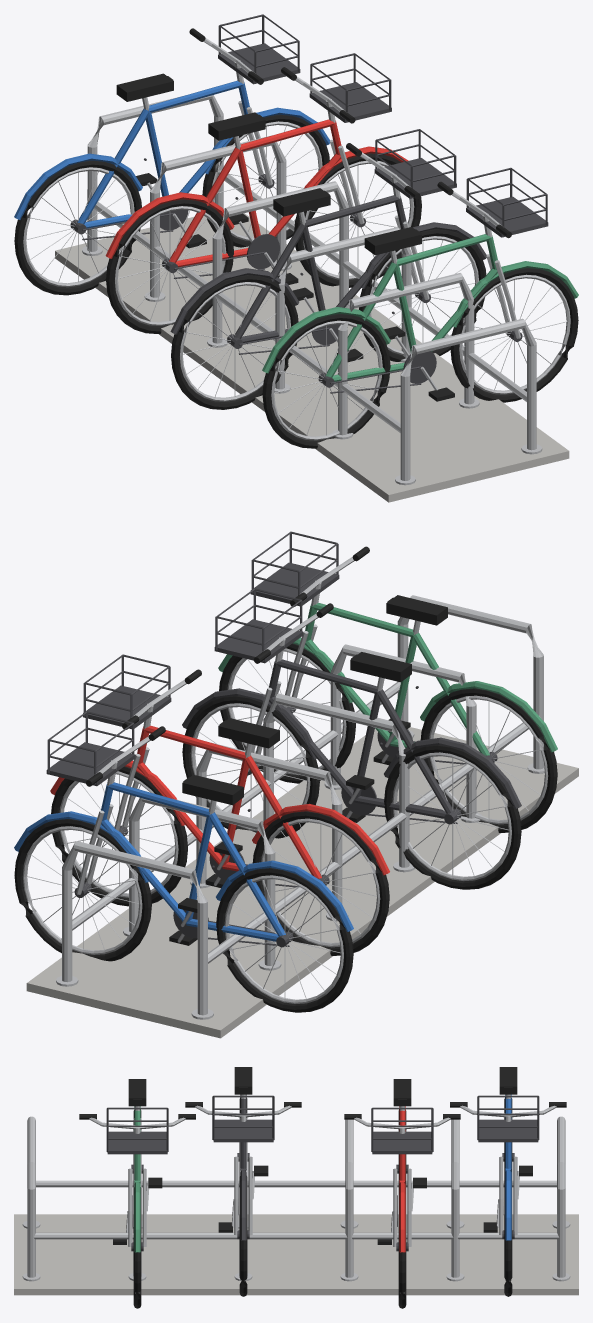
The model's file is SM_Prop_BikeRack.fbx.
The picture shows the model from 3 angles, top to bottom: view 1: azimuth 30°, elevation 25°; view 2: azimuth 150°, elevation 25°; view 3: azimuth 270°, elevation 25°; orthographic projection. The views are drawn at different scales.
Parts seen in each view (by area): view 1: SM_Prop_BikeRack; view 2: SM_Prop_BikeRack; view 3: SM_Prop_BikeRack.
Boxes of the visible parts, x1=… form: SM_Prop_BikeRack: x1=14, y1=14, x2=578, y2=502; SM_Prop_BikeRack: x1=14, y1=531, x2=578, y2=1038; SM_Prop_BikeRack: x1=14, y1=1067, x2=578, y2=1308.
Size of the model in its own units: 3.2 by 1.9 by 1.15.
